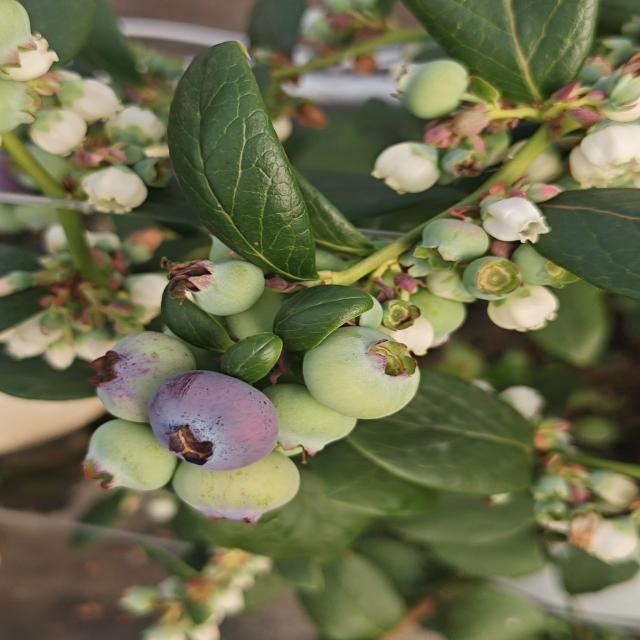ripe: (145, 368, 283, 473)
